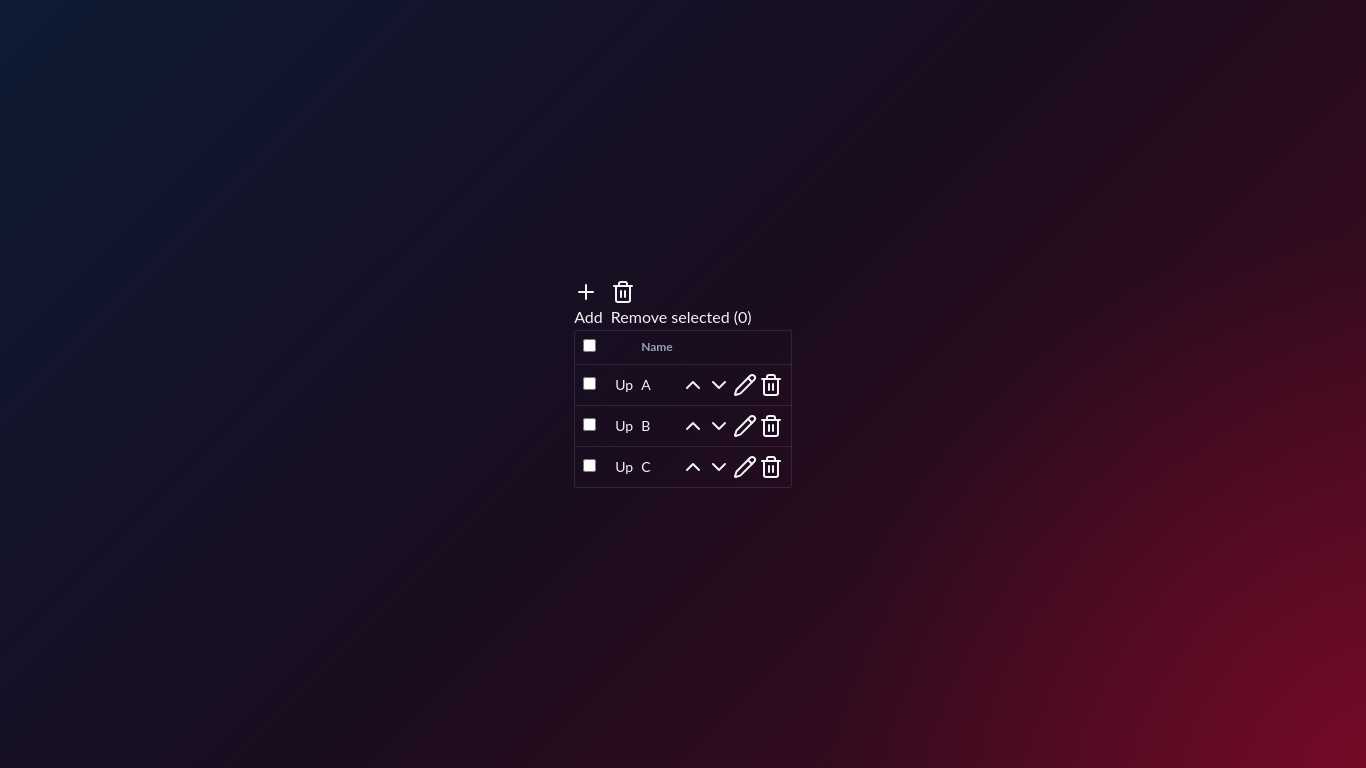
Scenario: DeviceList › reorders, adds, removes and bulk-removes
Click the button named "Move c up" at {"x": 693, "y": 467}, box [681,455,705,479]
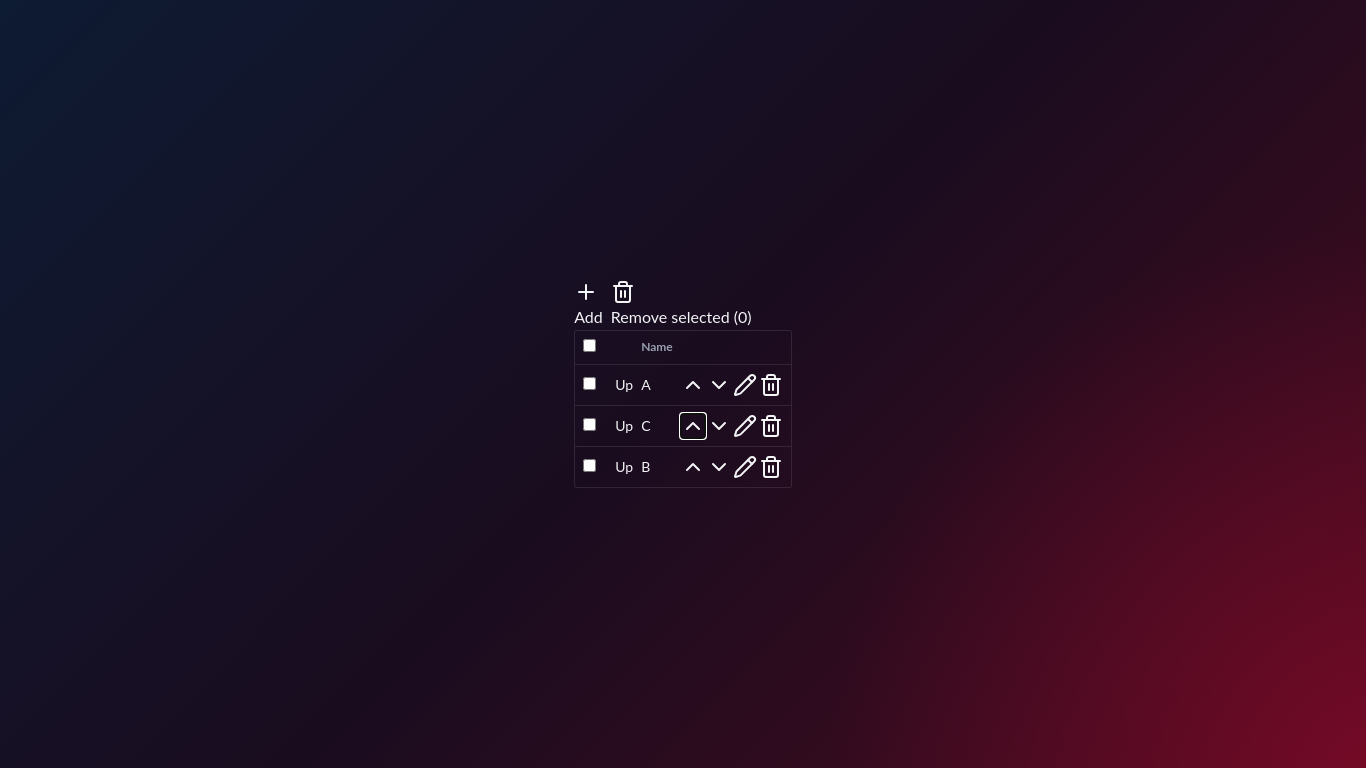
Click the button "Add" at {"x": 588, "y": 305}, box [574,280,603,330]
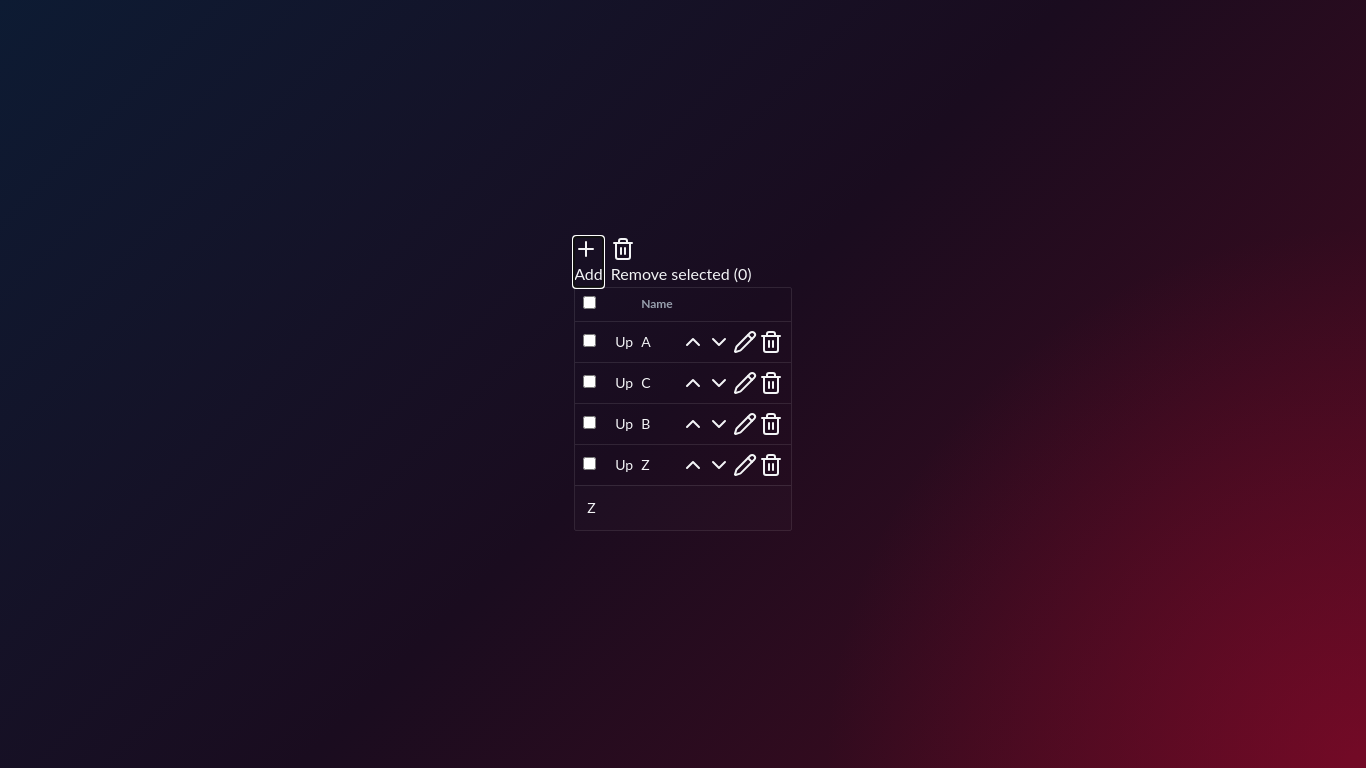
Check: the field named "edit name" is shown, box [587,498,765,518]
Click the button named "Remove a" at {"x": 771, "y": 342}, box [759,330,783,354]
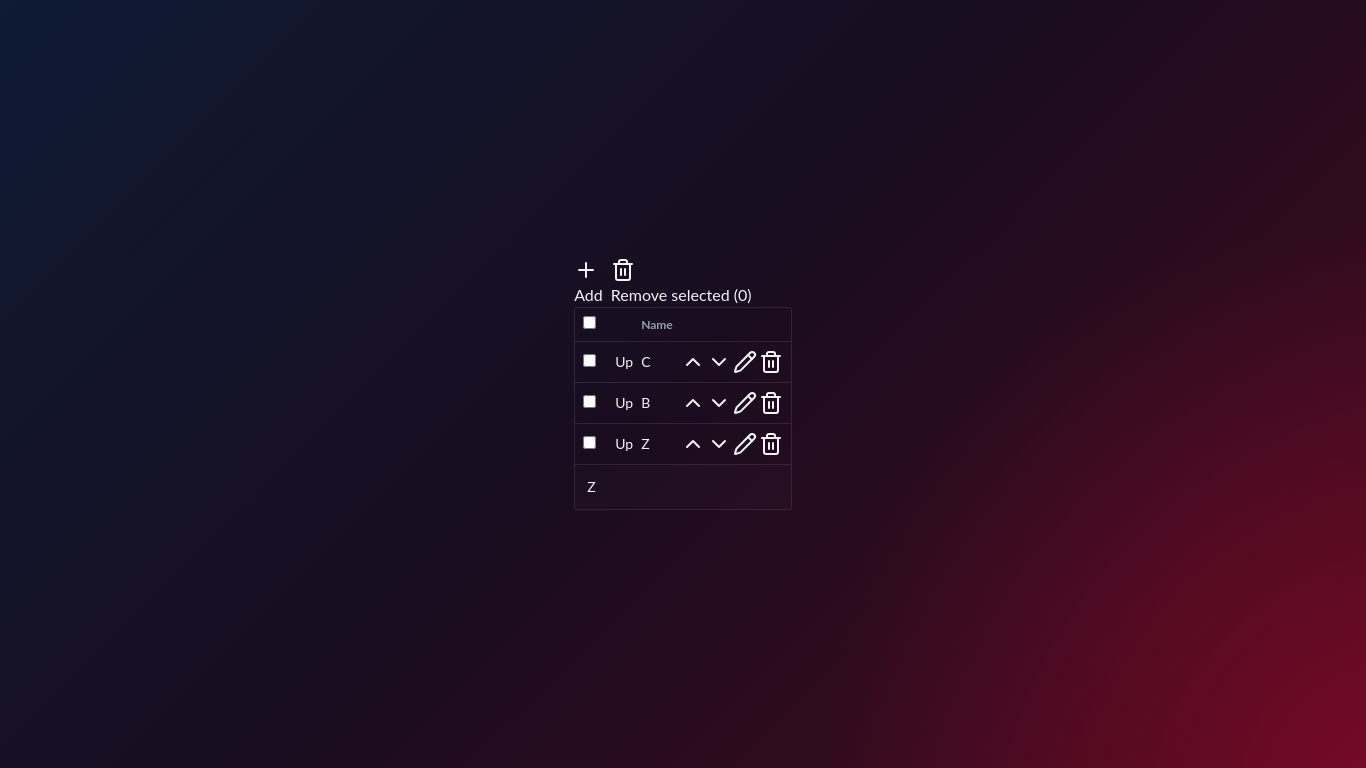
Click the checkbox named "Select all" at {"x": 590, "y": 323}, box [583,316,596,329]
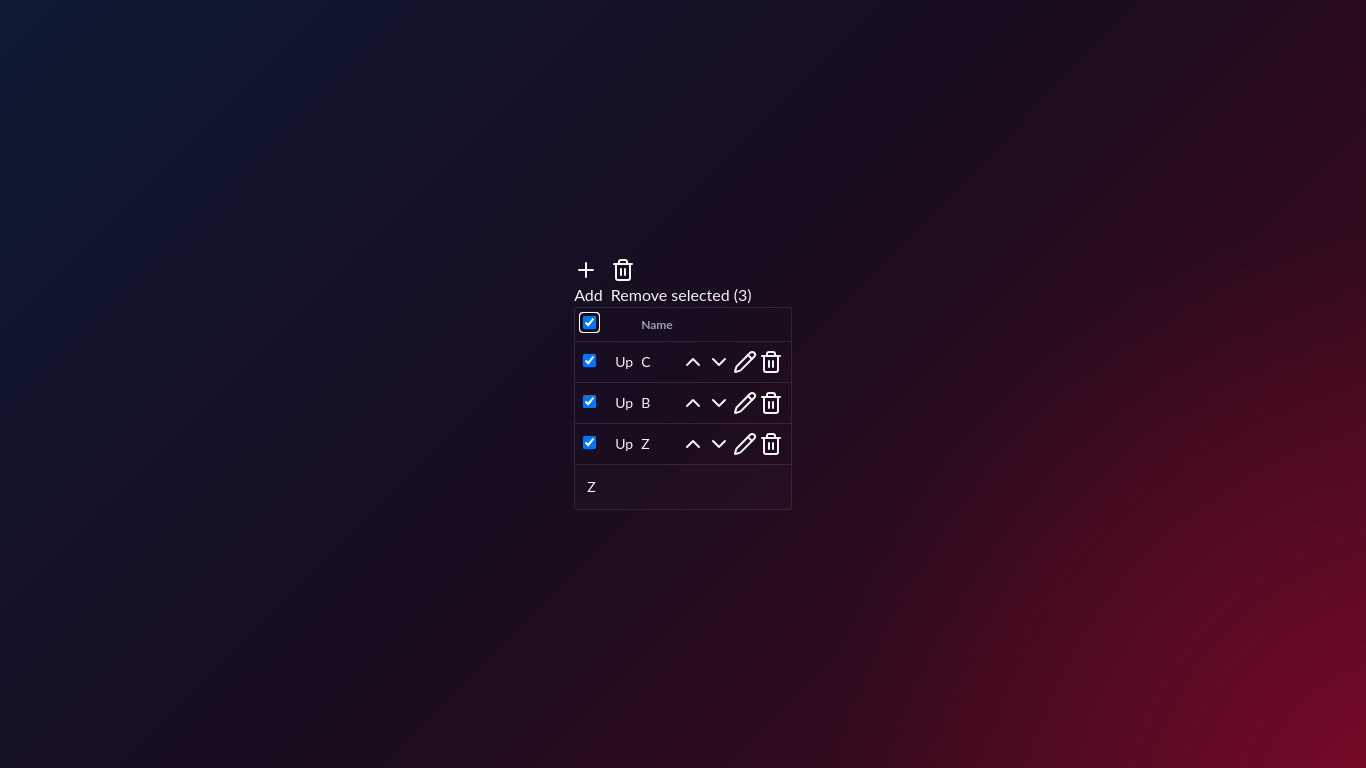
Click the button "Remove selected (3)" at {"x": 681, "y": 282}, box [611,258,752,307]
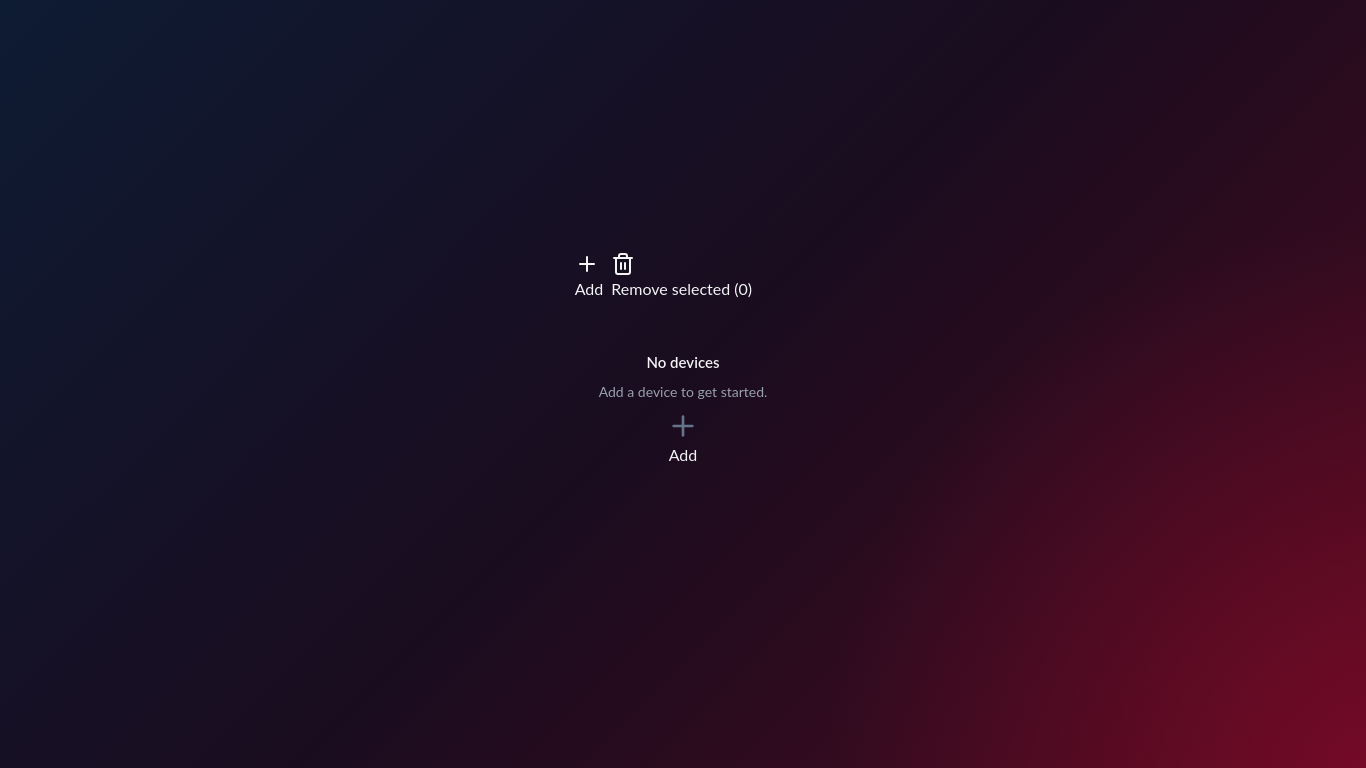
Check: the heading "No devices" is shown, box [646,350,720,374]
